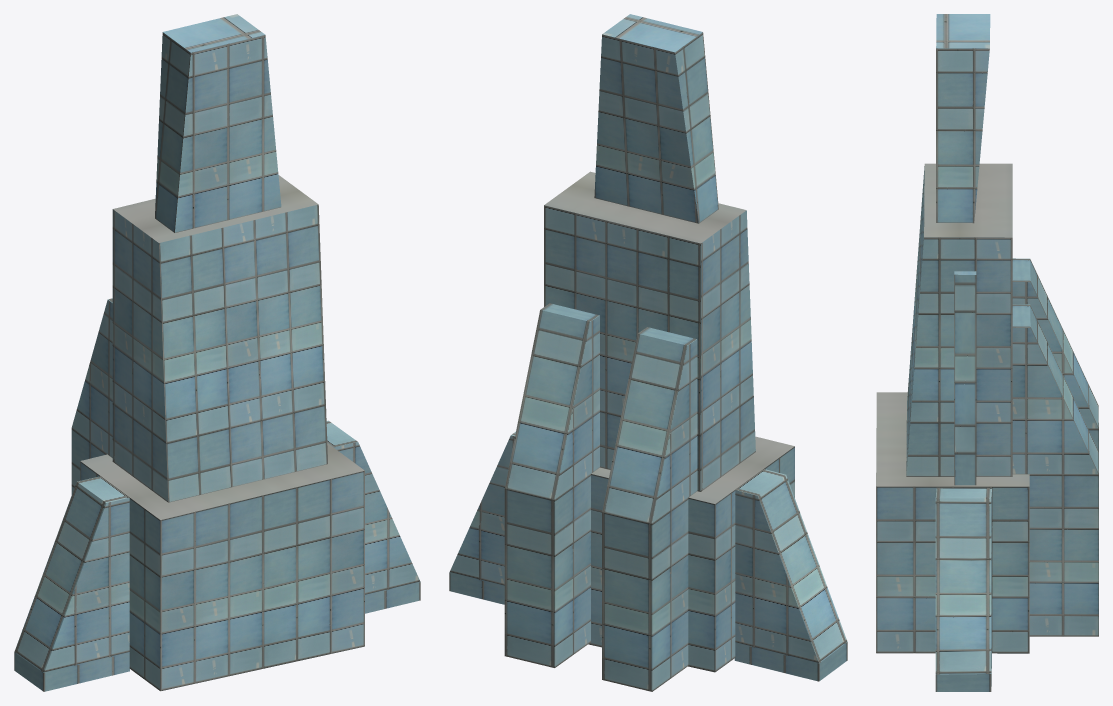
File: hiscrp2.fbx
3 views of the same model, side by side, from view 1: azimuth 30°, elevation 25°; view 2: azimuth 150°, elevation 25°; view 3: azimuth 270°, elevation 25° (orthographic). The views are drawn at different scales.
Parts seen in each view (by area): view 1: hicrp2; view 2: hicrp2; view 3: hicrp2.
Boxes of the visible parts, x1,y1,x2,y2 form: hicrp2: (14, 14, 420, 691); hicrp2: (449, 14, 847, 691); hicrp2: (876, 14, 1098, 691).
Bounding box in the file's own units: 1505 × 2310 × 814.
